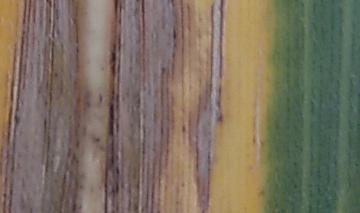tarspot: (107, 102, 115, 138), (112, 1, 120, 20), (171, 24, 179, 42), (110, 62, 117, 80), (13, 113, 21, 126), (215, 111, 224, 122), (257, 135, 265, 146), (110, 51, 117, 63), (250, 133, 257, 145), (74, 44, 81, 55), (140, 1, 145, 16), (170, 49, 177, 59), (160, 66, 166, 77), (92, 136, 101, 143), (97, 93, 103, 103), (44, 1, 53, 7), (114, 165, 120, 174), (180, 124, 185, 134), (53, 71, 59, 79), (292, 182, 298, 189)
